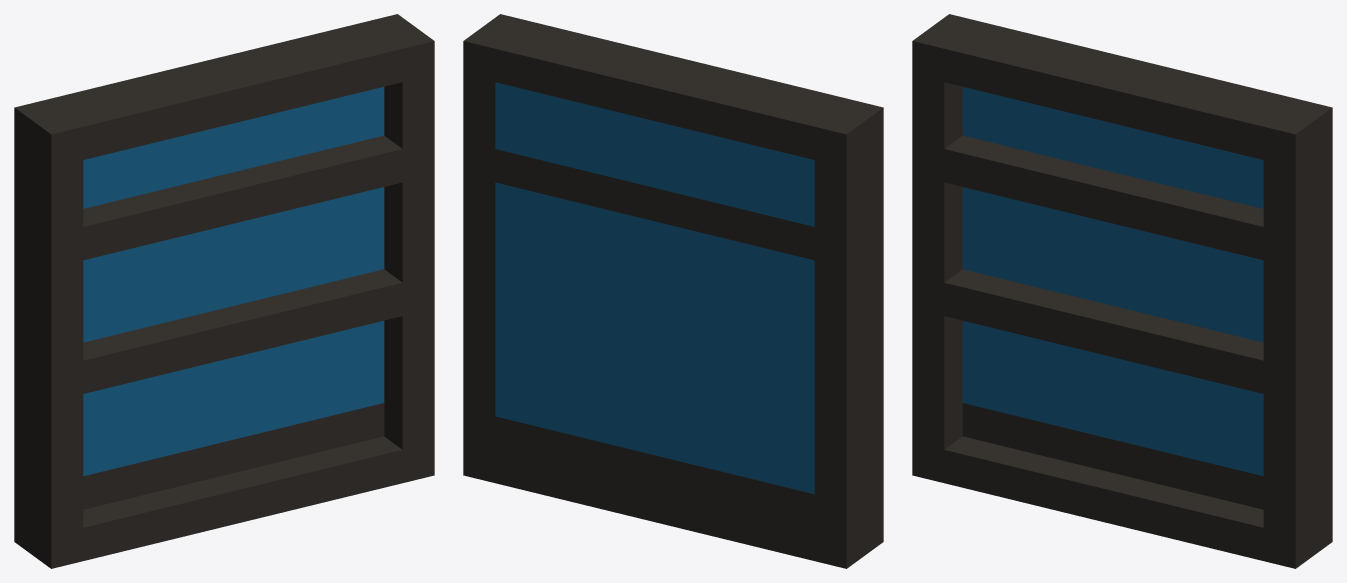
The model's file is Red-house-5-Window.obj.
The picture shows the model from 3 angles, left to right: view 1: azimuth 30°, elevation 25°; view 2: azimuth 150°, elevation 25°; view 3: azimuth 330°, elevation 25°; orthographic projection.
Visible parts, largest first — view 1: Window; view 2: Window; view 3: Window.
Part boxes in pixels (x1,y1,x2,y2): Window: (14, 14, 434, 568); Window: (463, 14, 883, 568); Window: (912, 14, 1332, 568).
Bounding box in the file's own units: 1.2 × 1.3 × 0.2.
1 material, 1 textured.
